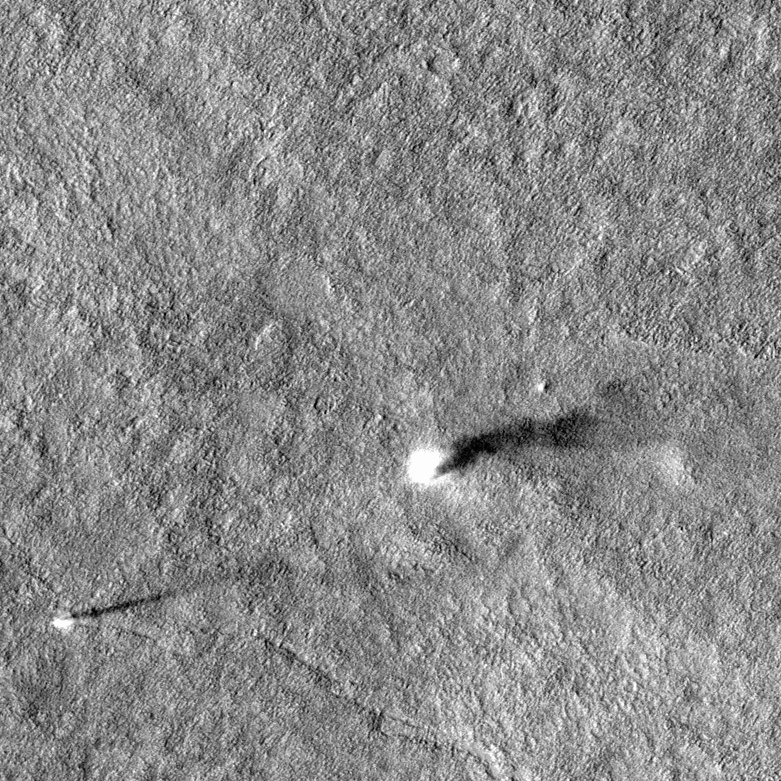dust_devil: (400, 398, 605, 489), (47, 581, 179, 635)
